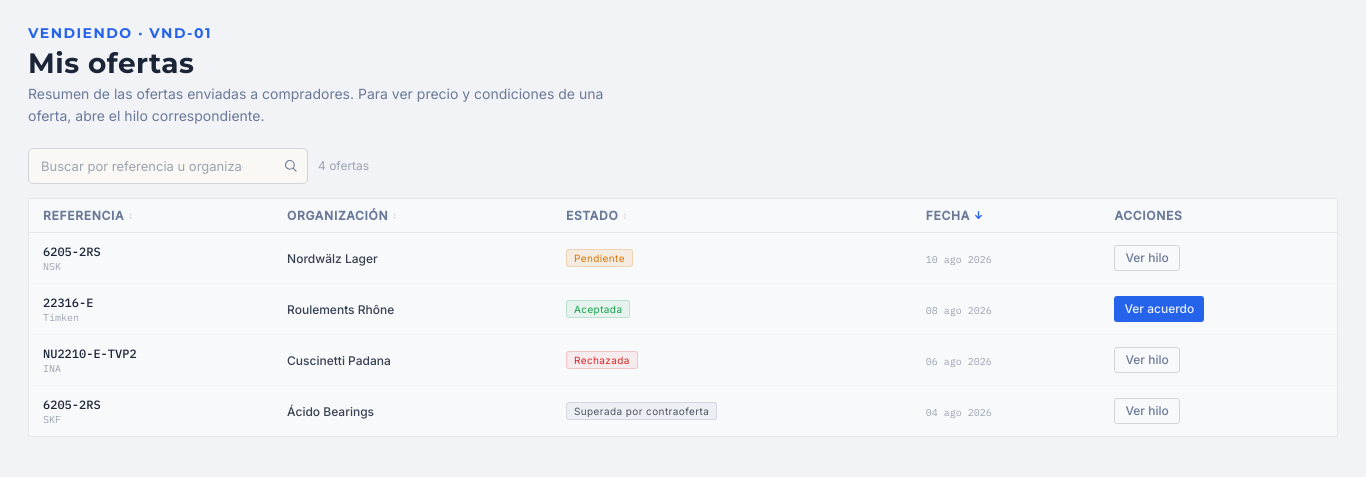
Test: la búsqueda · §4 y CA-VND-02 › filtra también por organización
Expected: the number of rows with test id "sent-offer-row" is 4, [29,232,1337,283]; [29,283,1337,334]; [29,334,1337,385]; [29,385,1337,436]
Type "Padana" into the search field with placeholder "Buscar por referencia u organización…" at (168, 166), box [28,148,308,184]
Then press Enter
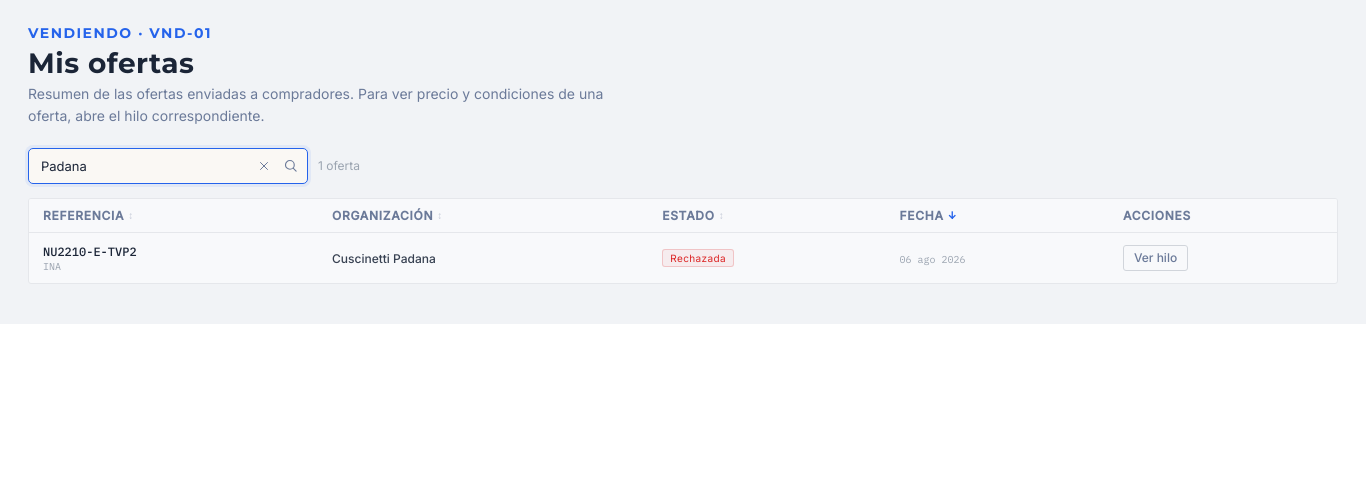
Now the number of rows with test id "sent-offer-row" is 1, box [29,232,1337,283]
